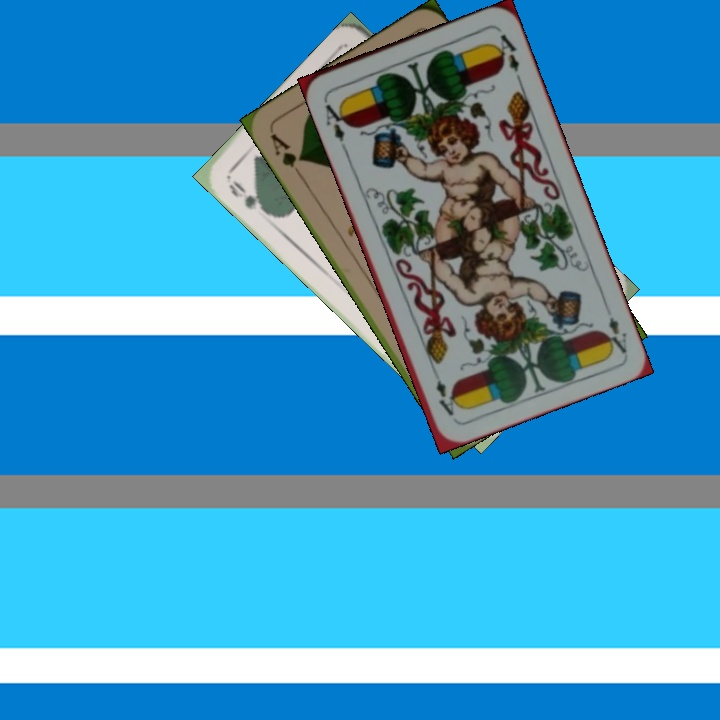EA: (320, 95, 352, 144), (599, 313, 630, 356)
GA: (265, 129, 306, 181)
GO: (224, 176, 273, 218)
